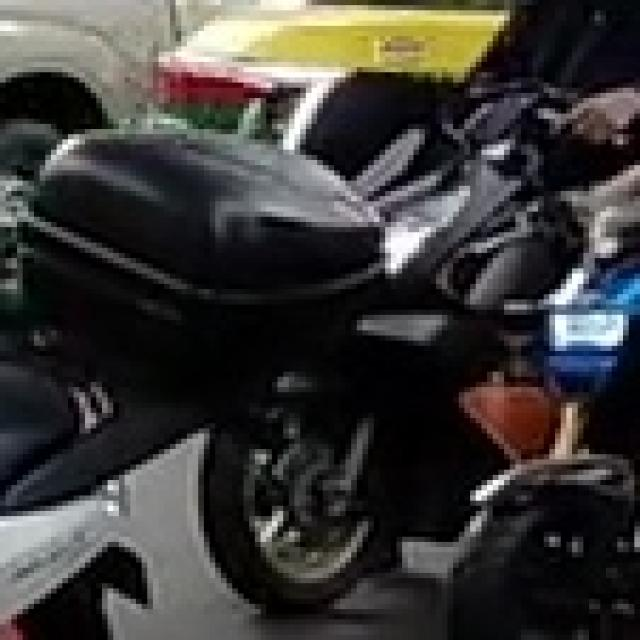tyre: (198, 403, 396, 609)
